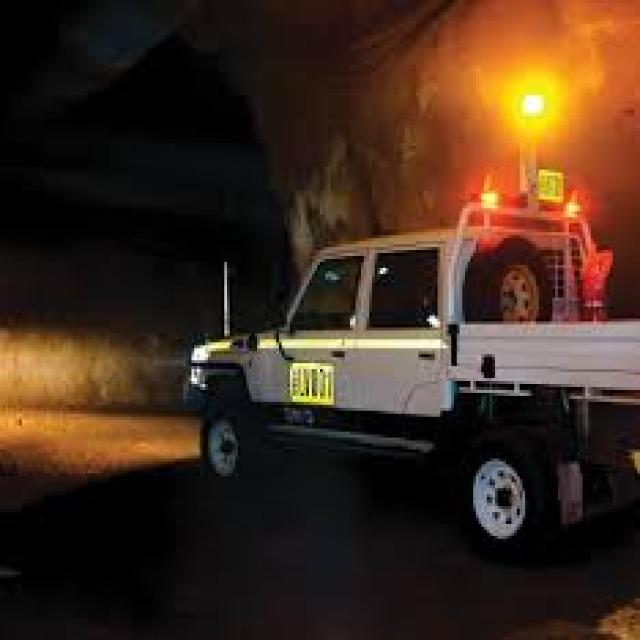light_vehicle: (101, 178, 637, 566)
